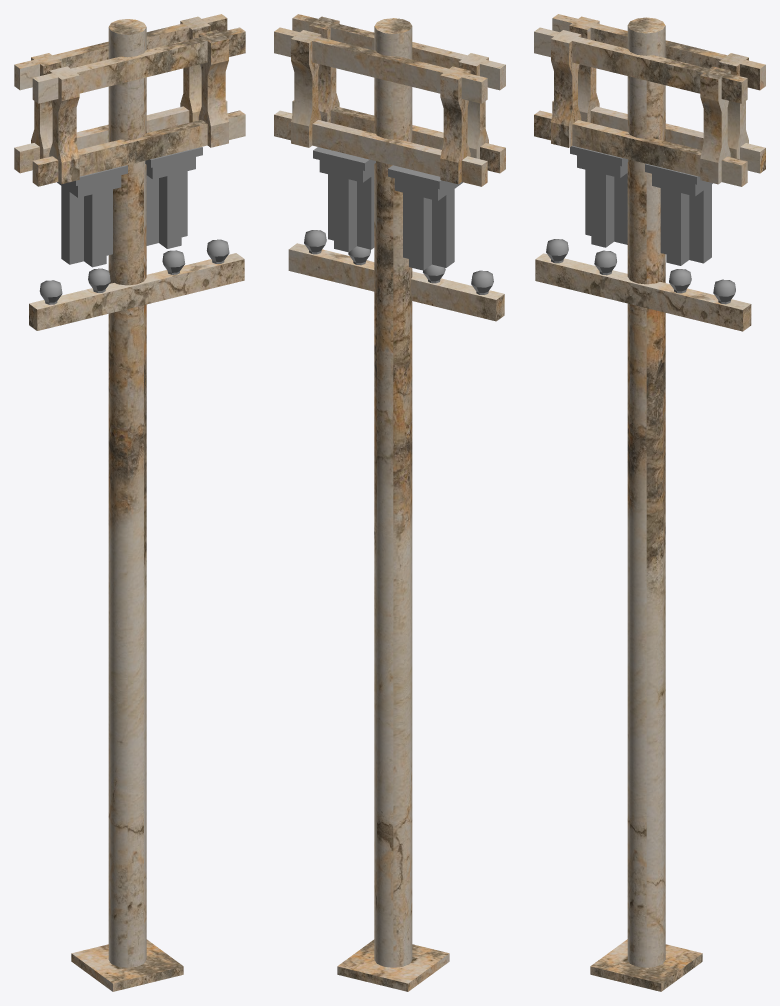
Rendered from Poteau_electric.FBX.
3 renders of one model, left to right at view 1: azimuth 30°, elevation 25°; view 2: azimuth 150°, elevation 25°; view 3: azimuth 330°, elevation 25°, orthographic.
Parts seen in each view (by area): view 1: Box043; view 2: Box043; view 3: Box043.
Part boxes in pixels (x1=…): Box043: x1=14, y1=14, x2=245, y2=991; Box043: x1=274, y1=14, x2=505, y2=991; Box043: x1=534, y1=14, x2=765, y2=991.
Size of the model in its own units: 60.96 by 21.12 by 264.
Materials: 4 (1 with a texture image).
